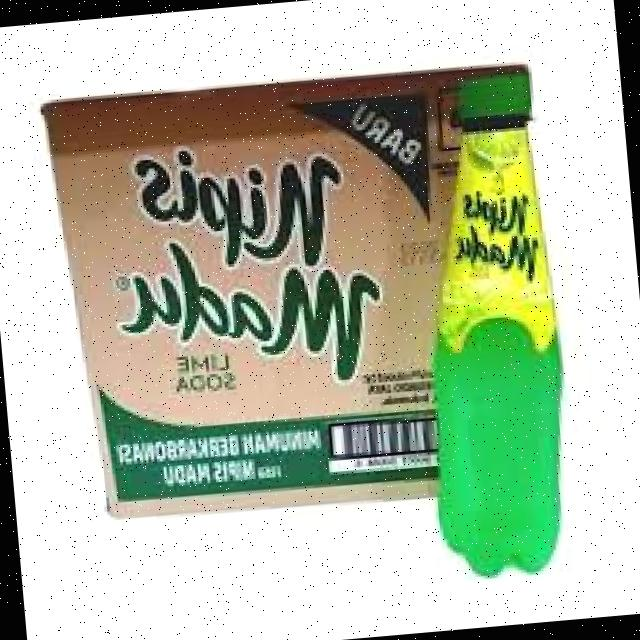bottle: (366, 55, 633, 608)
cap: (450, 61, 539, 132)
